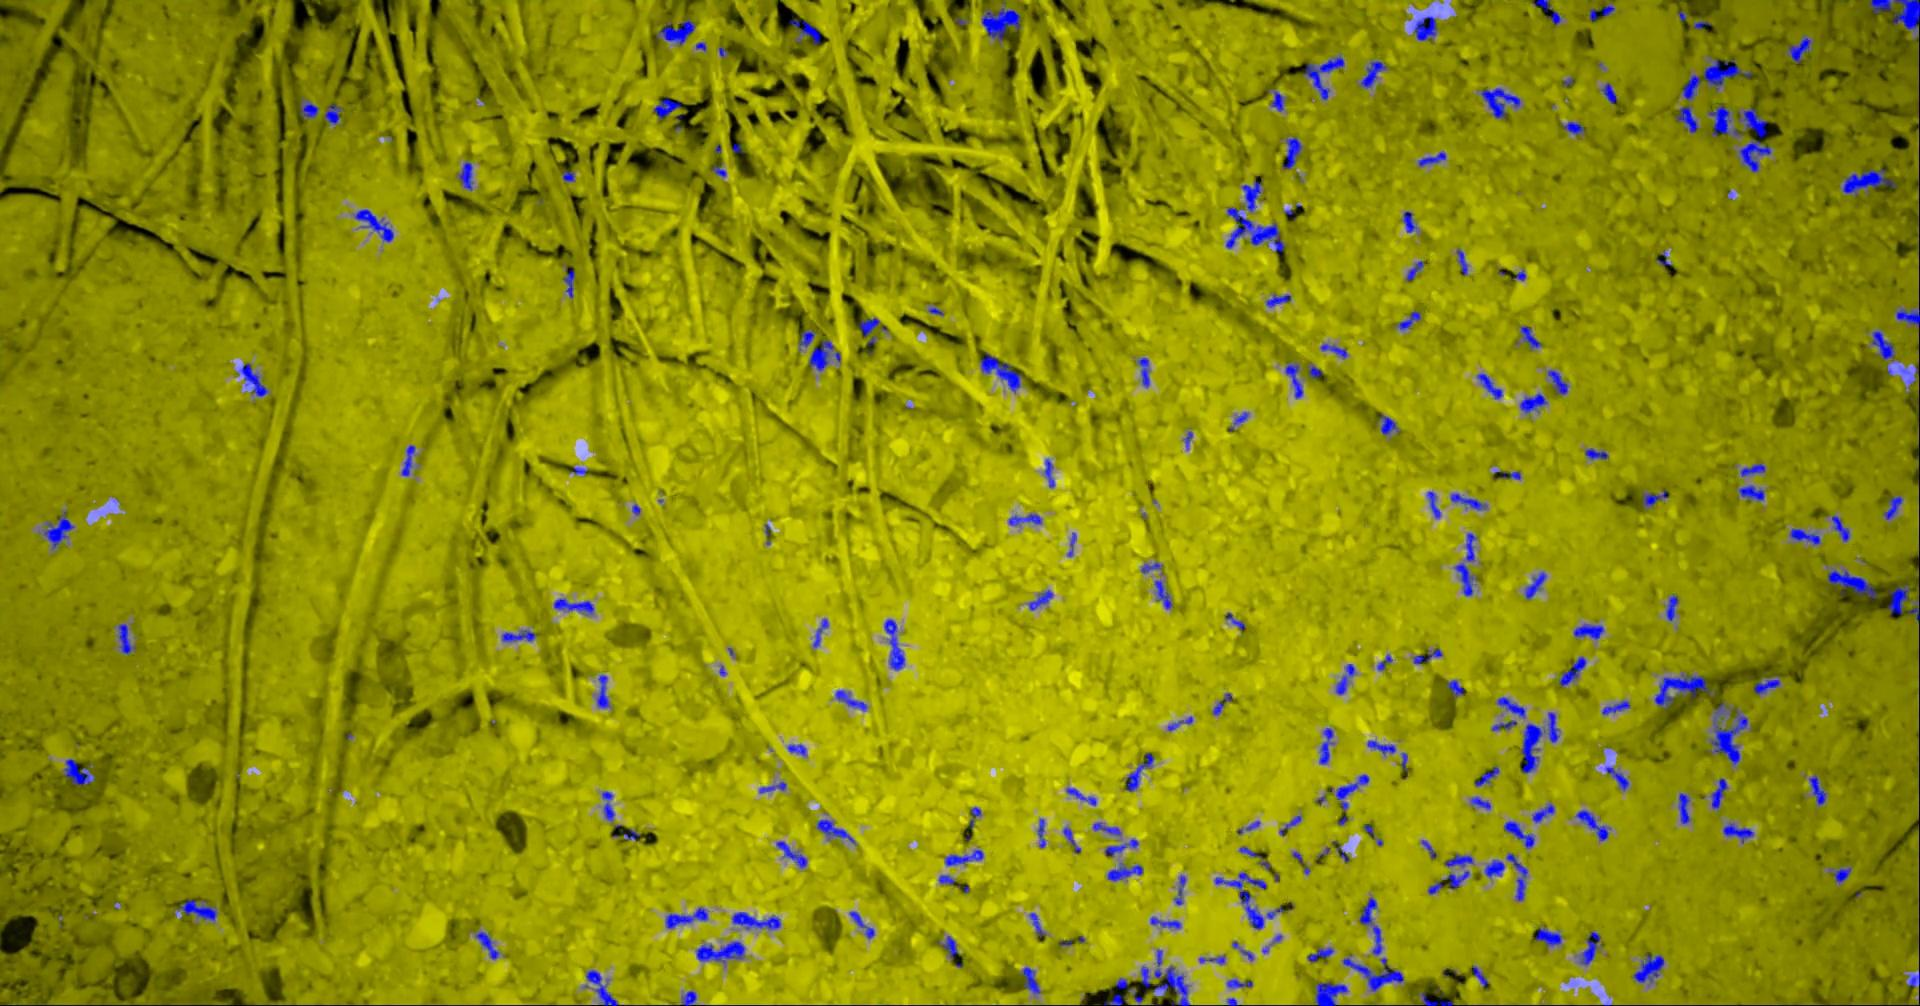ant: (1213, 873, 1283, 929), (1681, 57, 1751, 100), (1521, 711, 1559, 774), (1710, 701, 1747, 763), (1737, 107, 1771, 171), (1342, 956, 1403, 991), (1153, 949, 1189, 1005), (1655, 674, 1714, 708), (1330, 774, 1368, 824), (1303, 55, 1343, 99), (979, 352, 1021, 392), (982, 0, 1020, 41), (1843, 166, 1895, 196), (1869, 0, 1919, 30), (1827, 569, 1876, 598), (1359, 897, 1382, 954), (354, 208, 392, 241), (1481, 86, 1519, 118), (585, 969, 617, 1005), (655, 17, 695, 44), (1125, 752, 1153, 791), (883, 619, 904, 669), (1575, 809, 1610, 840), (43, 511, 72, 547), (808, 339, 841, 371), (1506, 852, 1528, 901), (696, 941, 744, 963), (237, 362, 267, 396), (1708, 105, 1740, 136), (1632, 953, 1663, 982), (817, 819, 855, 843), (665, 907, 707, 929), (775, 840, 806, 868), (731, 911, 780, 929), (857, 318, 888, 345), (1558, 655, 1586, 686), (1503, 821, 1534, 848), (789, 18, 820, 44), (63, 758, 94, 785), (177, 899, 216, 920), (1314, 981, 1347, 1005), (1359, 60, 1385, 88), (1580, 931, 1601, 964), (1115, 977, 1143, 1002), (1531, 0, 1561, 24), (1870, 330, 1895, 359), (1239, 846, 1270, 869), (1887, 583, 1909, 614), (943, 848, 983, 865), (1476, 373, 1502, 398), (850, 911, 874, 937), (653, 97, 681, 119), (475, 931, 498, 959), (1283, 136, 1302, 169), (1454, 563, 1473, 596), (552, 598, 593, 614), (836, 690, 866, 710), (1722, 823, 1752, 843), (1787, 37, 1810, 64), (1675, 105, 1698, 132), (1284, 363, 1302, 398), (1103, 838, 1138, 856), (1107, 862, 1142, 880), (1417, 987, 1451, 1005), (1524, 572, 1545, 600), (1450, 493, 1486, 509), (1413, 15, 1437, 39), (1604, 766, 1628, 790), (1335, 663, 1354, 694), (1497, 696, 1525, 716), (117, 622, 135, 654), (1808, 774, 1826, 805), (1895, 307, 1919, 330), (1519, 392, 1545, 413), (1065, 788, 1095, 805), (1589, 0, 1614, 20), (1319, 727, 1333, 763), (1752, 674, 1779, 694), (1710, 777, 1727, 808), (1154, 580, 1172, 608), (1519, 326, 1542, 348), (1547, 370, 1567, 394), (1474, 766, 1498, 786), (502, 627, 536, 641), (1831, 514, 1849, 541), (1534, 927, 1561, 945), (1397, 310, 1420, 330), (1789, 528, 1820, 544), (1573, 624, 1604, 639), (1412, 648, 1443, 663), (811, 619, 828, 647), (596, 674, 610, 708), (1883, 495, 1902, 520), (1062, 827, 1079, 852), (401, 445, 415, 476), (1641, 490, 1667, 507), (1022, 967, 1039, 993), (1379, 413, 1399, 434), (1029, 589, 1051, 608), (1531, 803, 1554, 822), (1230, 941, 1253, 960), (1445, 870, 1469, 888), (1738, 484, 1764, 500), (1211, 692, 1230, 714), (1279, 815, 1300, 835), (458, 161, 472, 191), (1601, 700, 1630, 714), (601, 791, 615, 821), (1418, 151, 1445, 166), (1029, 912, 1044, 939), (1368, 741, 1396, 754), (1444, 854, 1472, 868), (298, 98, 319, 117), (323, 104, 342, 124), (1321, 343, 1346, 358), (1137, 357, 1149, 387), (1677, 793, 1690, 823), (1149, 916, 1180, 929), (1008, 513, 1041, 525), (941, 935, 957, 958), (1307, 948, 1333, 962), (563, 265, 574, 297), (1265, 293, 1290, 307), (1426, 492, 1440, 517), (1167, 716, 1192, 730), (1092, 822, 1120, 835), (1406, 260, 1423, 279), (1225, 612, 1244, 630), (1484, 859, 1503, 876), (1600, 83, 1617, 103), (797, 330, 814, 351), (1470, 965, 1487, 986), (1173, 875, 1185, 904), (1740, 464, 1765, 476), (1665, 594, 1677, 620), (1561, 121, 1583, 135), (758, 781, 786, 793), (1402, 211, 1416, 232), (1465, 532, 1476, 561), (1446, 680, 1463, 697), (1907, 597, 1919, 622), (1491, 719, 1516, 730), (1831, 868, 1850, 883), (1044, 459, 1054, 486), (1583, 447, 1608, 459), (1457, 249, 1467, 276), (1270, 91, 1284, 111), (1103, 993, 1126, 1005), (1470, 796, 1490, 809), (1197, 955, 1224, 964), (1140, 561, 1161, 573), (1377, 654, 1392, 669), (969, 807, 980, 827), (1140, 965, 1150, 988), (681, 989, 696, 1005), (1037, 818, 1045, 847), (1307, 365, 1322, 379), (1225, 979, 1252, 987), (786, 744, 805, 754), (1427, 882, 1443, 894), (622, 828, 639, 840), (711, 165, 726, 177), (938, 874, 954, 884), (1909, 970, 1919, 986), (1501, 471, 1520, 479), (561, 170, 574, 180)
